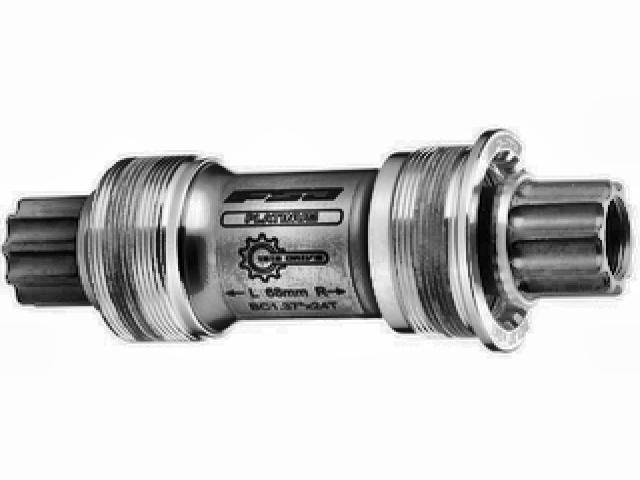bottom_bracket: (2, 123, 636, 354)
